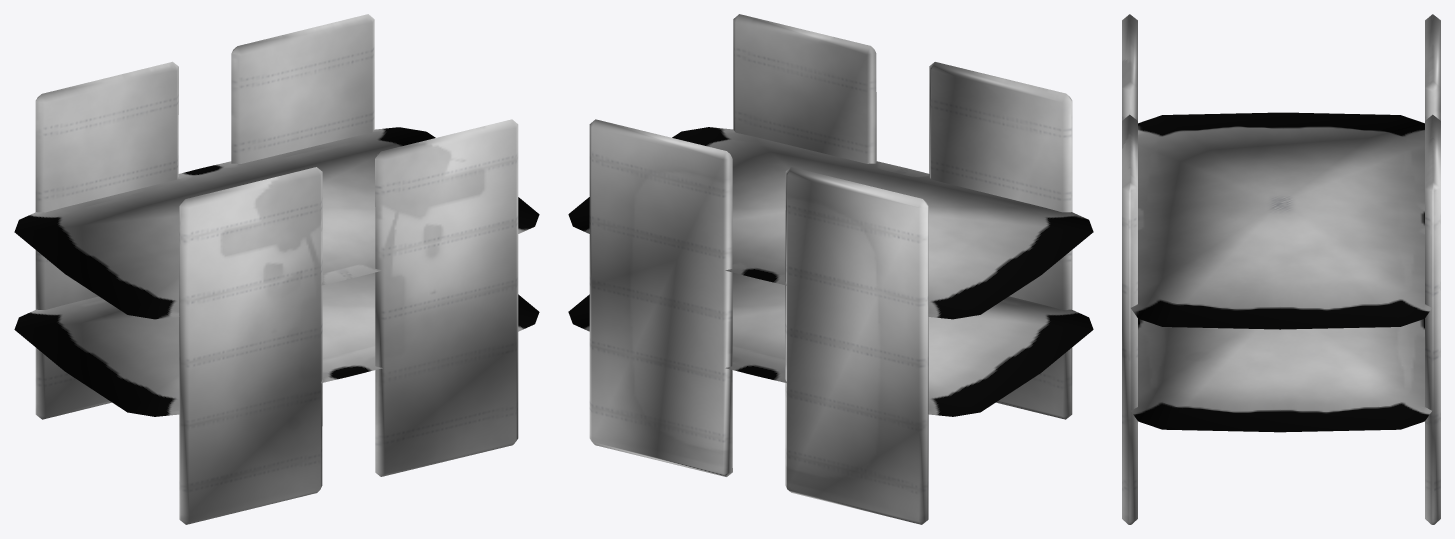
Rendered from UpperTorso_C2.fbx.
3 views of the same model, side by side, from view 1: azimuth 30°, elevation 25°; view 2: azimuth 150°, elevation 25°; view 3: azimuth 270°, elevation 25° (orthographic). The views are drawn at different scales.
Parts seen in each view (by area): view 1: Civ_ChalecoObra_UpperTorso_C2; view 2: Civ_ChalecoObra_UpperTorso_C2; view 3: Civ_ChalecoObra_UpperTorso_C2.
Part boxes in pixels (x1=…): Civ_ChalecoObra_UpperTorso_C2: x1=14, y1=14, x2=539, y2=524; Civ_ChalecoObra_UpperTorso_C2: x1=568, y1=14, x2=1093, y2=524; Civ_ChalecoObra_UpperTorso_C2: x1=1122, y1=14, x2=1440, y2=524.
Bounding box in the file's own units: 2.31 × 1.7 × 1.43.
